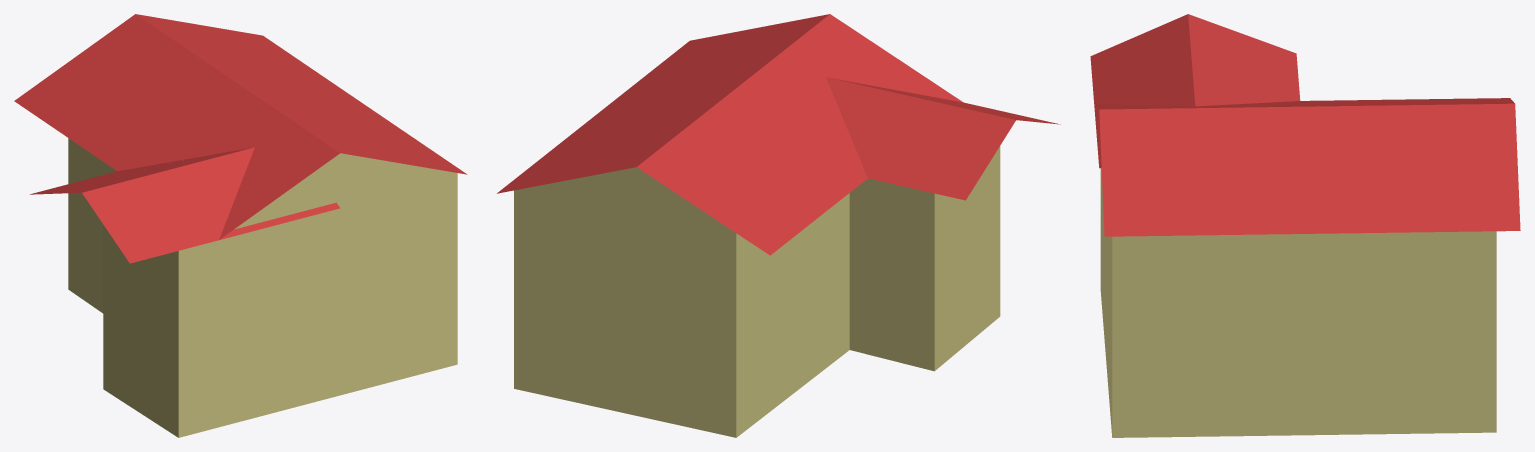
3 renders of one model, left to right at view 1: azimuth 30°, elevation 25°; view 2: azimuth 150°, elevation 25°; view 3: azimuth 270°, elevation 25°, orthographic. The views are drawn at different scales.
Bounding box in the file's own units: 13.65 × 13.53 × 9.16.
